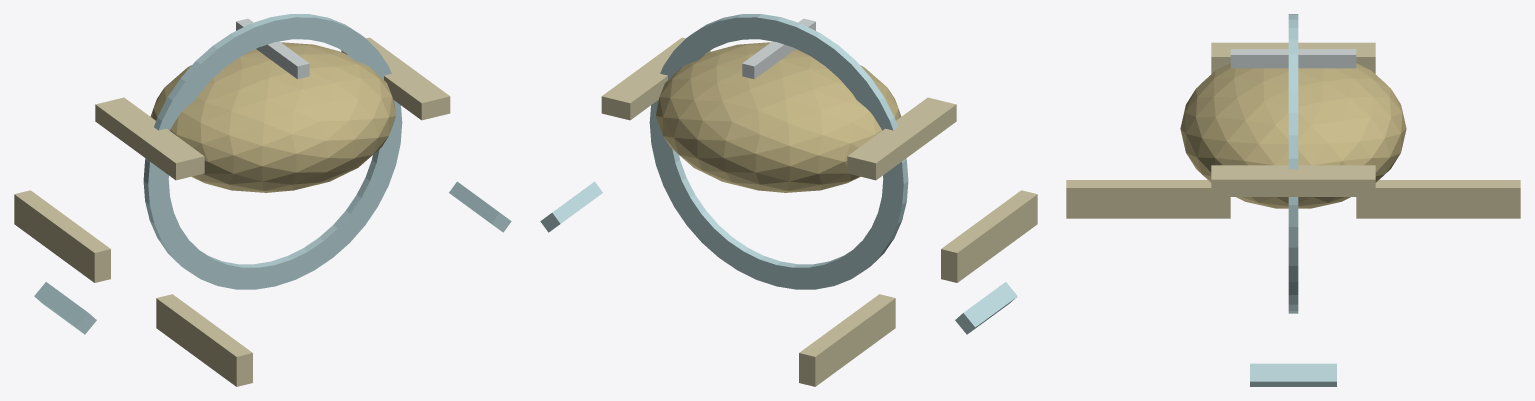
Rendered from helias_veil_eye.glb.
3 renders of one model, left to right at view 1: azimuth 30°, elevation 25°; view 2: azimuth 150°, elevation 25°; view 3: azimuth 270°, elevation 25°, orthographic. The views are drawn at different scales.
Visible parts, largest first — view 1: eye_shell, hover_ring, fin_3, fin_2, fin_0, fin_1, tip_0, sensor_sweep_bar, tip_1; view 2: eye_shell, hover_ring, fin_2, fin_3, fin_0, fin_1, tip_0, sensor_sweep_bar, tip_1; view 3: eye_shell, fin_2, fin_3, fin_1, hover_ring, sensor_sweep_bar, tip_1, fin_0.
Part boxes in pixels (x1=…): eye_shell: x1=150, y1=42, x2=395, y2=192; hover_ring: x1=143, y1=14, x2=402, y2=289; fin_3: x1=14, y1=190, x2=110, y2=282; fin_2: x1=156, y1=294, x2=252, y2=386; fin_0: x1=95, y1=97, x2=204, y2=180; fin_1: x1=341, y1=37, x2=450, y2=120; tip_0: x1=34, y1=282, x2=96, y2=334; sensor_sweep_bar: x1=236, y1=18, x2=309, y2=79; tip_1: x1=449, y1=181, x2=511, y2=232; eye_shell: x1=656, y1=42, x2=901, y2=192; hover_ring: x1=649, y1=14, x2=908, y2=289; fin_2: x1=941, y1=190, x2=1037, y2=282; fin_3: x1=799, y1=294, x2=895, y2=386; fin_0: x1=847, y1=97, x2=956, y2=180; fin_1: x1=601, y1=37, x2=710, y2=120; tip_0: x1=955, y1=282, x2=1017, y2=334; sensor_sweep_bar: x1=742, y1=18, x2=815, y2=79; tip_1: x1=540, y1=181, x2=602, y2=232; eye_shell: x1=1180, y1=63, x2=1406, y2=208; fin_2: x1=1066, y1=180, x2=1230, y2=218; fin_3: x1=1356, y1=180, x2=1520, y2=218; fin_1: x1=1211, y1=165, x2=1375, y2=196; hover_ring: x1=1288, y1=14, x2=1298, y2=313; sensor_sweep_bar: x1=1230, y1=49, x2=1356, y2=68; tip_1: x1=1250, y1=363, x2=1336, y2=386; fin_0: x1=1211, y1=42, x2=1375, y2=73.
Bounding box in the file's own units: 1.06 × 0.62 × 0.94.
